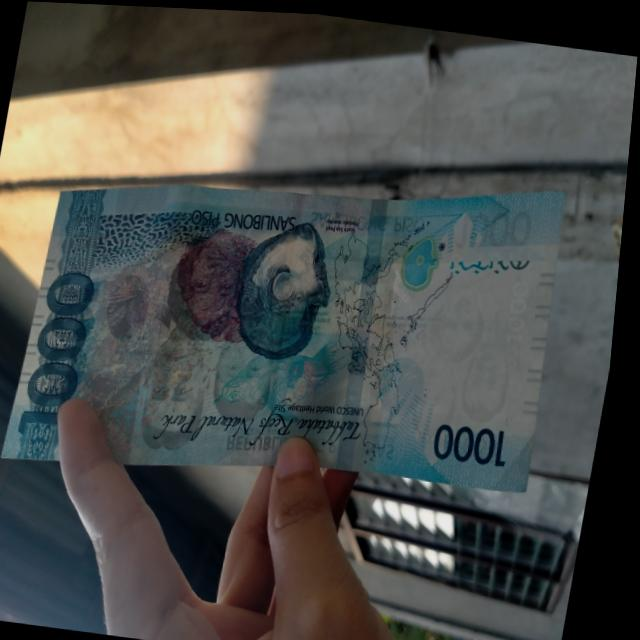security_thread: (343, 195, 393, 466)
see_through_mark: (449, 237, 539, 282)
value_watermark: (505, 271, 539, 344)
watermark: (414, 262, 534, 436)
